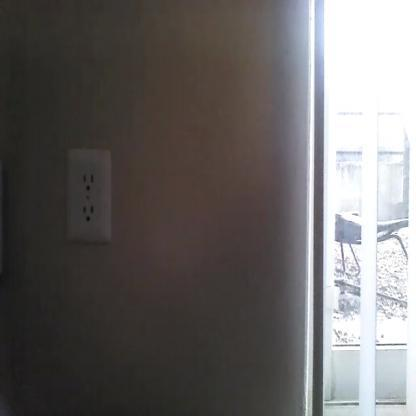OUTLET: (66, 149, 110, 243)
